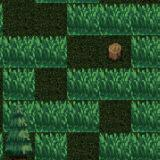Obstacle: (100, 35, 130, 67), (4, 132, 34, 160)
Slow: (3, 101, 99, 132), (68, 68, 160, 100), (67, 4, 160, 35), (0, 36, 68, 68), (99, 132, 160, 160), (3, 68, 35, 101), (131, 35, 160, 68), (34, 132, 67, 160), (132, 100, 160, 132)
